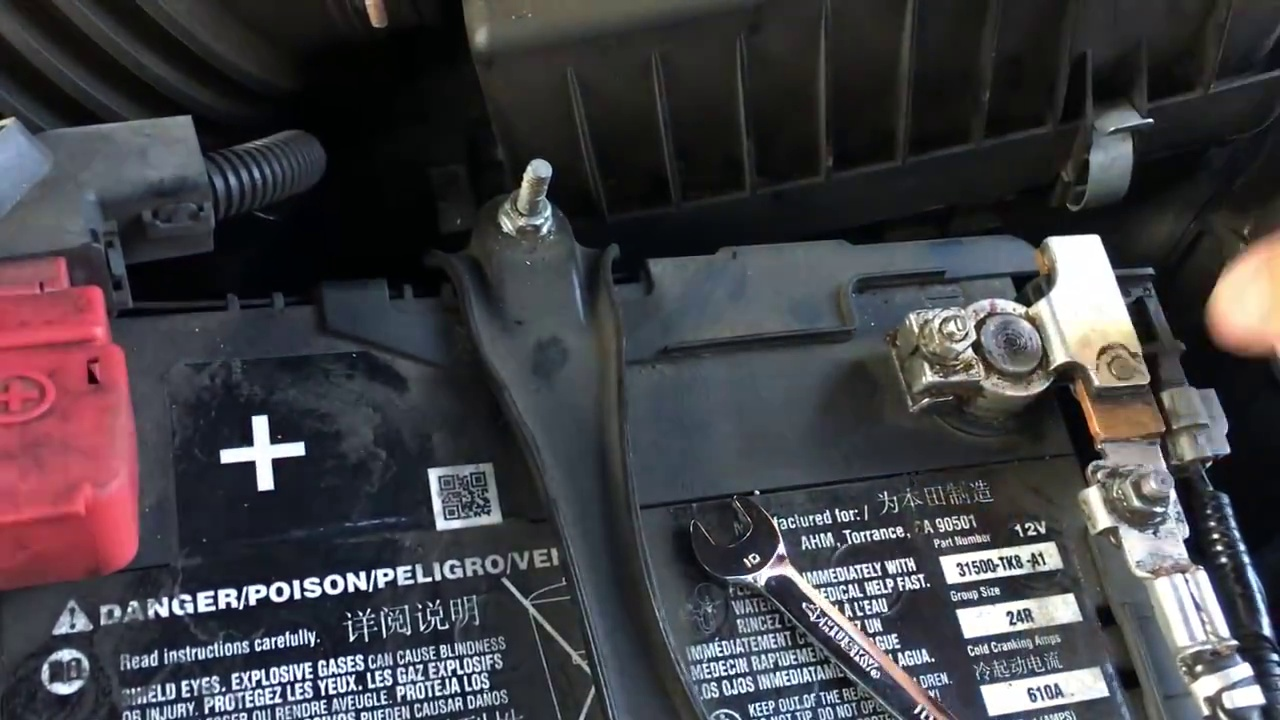battery: (1, 235, 1199, 720)
neg_connected: (888, 234, 1199, 467)
pos_connected: (2, 180, 162, 595)
